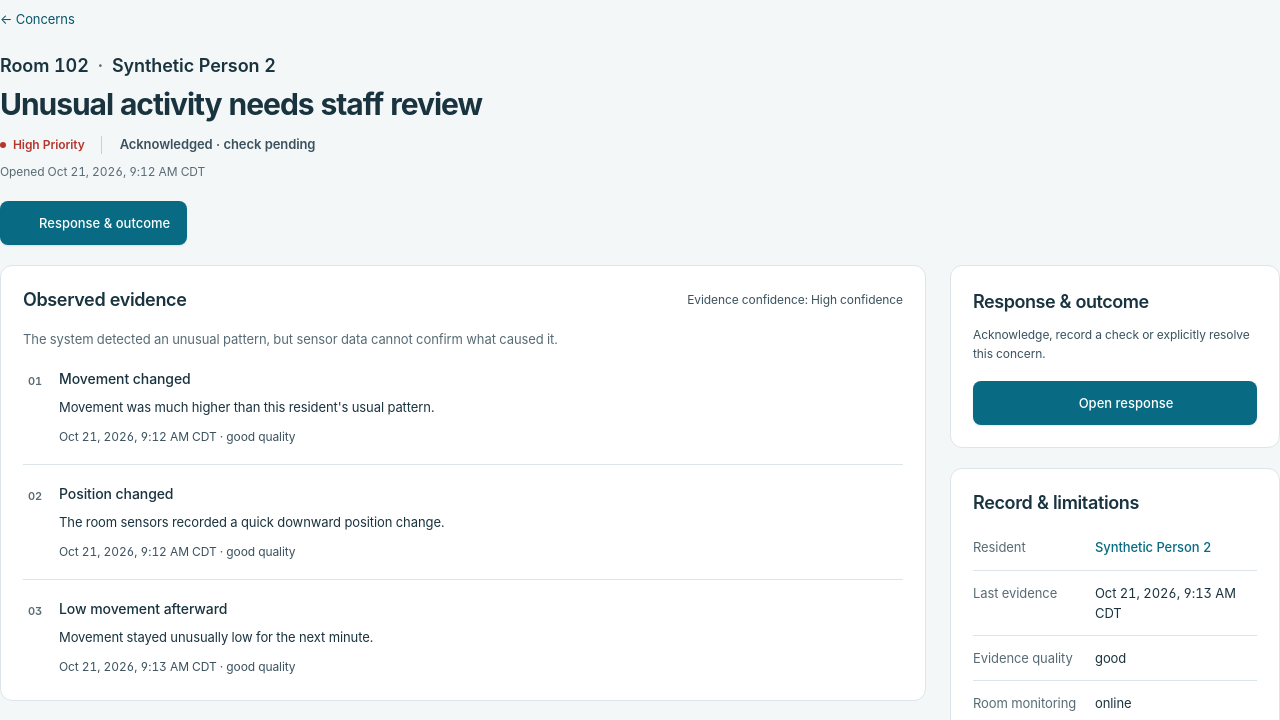
care workspace › protects an actual response draft until staff explicitly discard it
Click the button "Response & outcome".
click(94, 223)  # box [0,201,187,245]
(page scrolled)
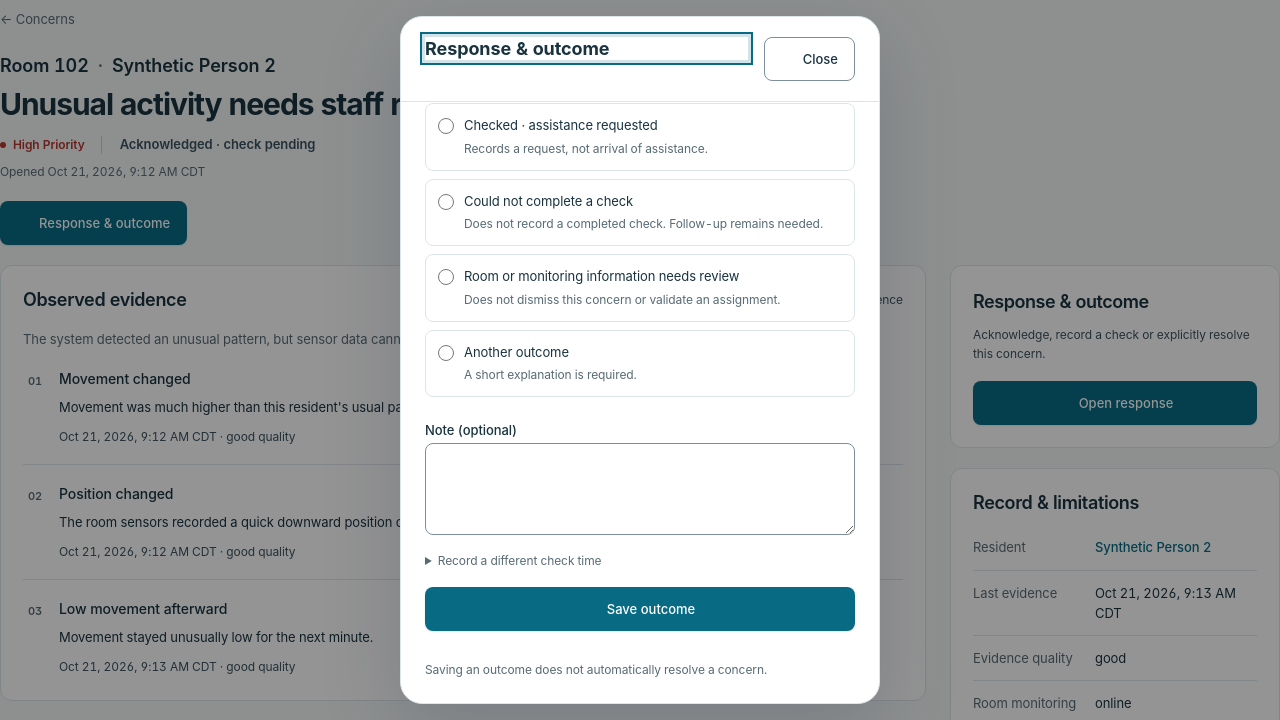
Type "Unfinished synthetic note" into the text box labelled "Note (optional)".
click(640, 489); type("Unfinished synthetic note")  # box [425,443,855,535]
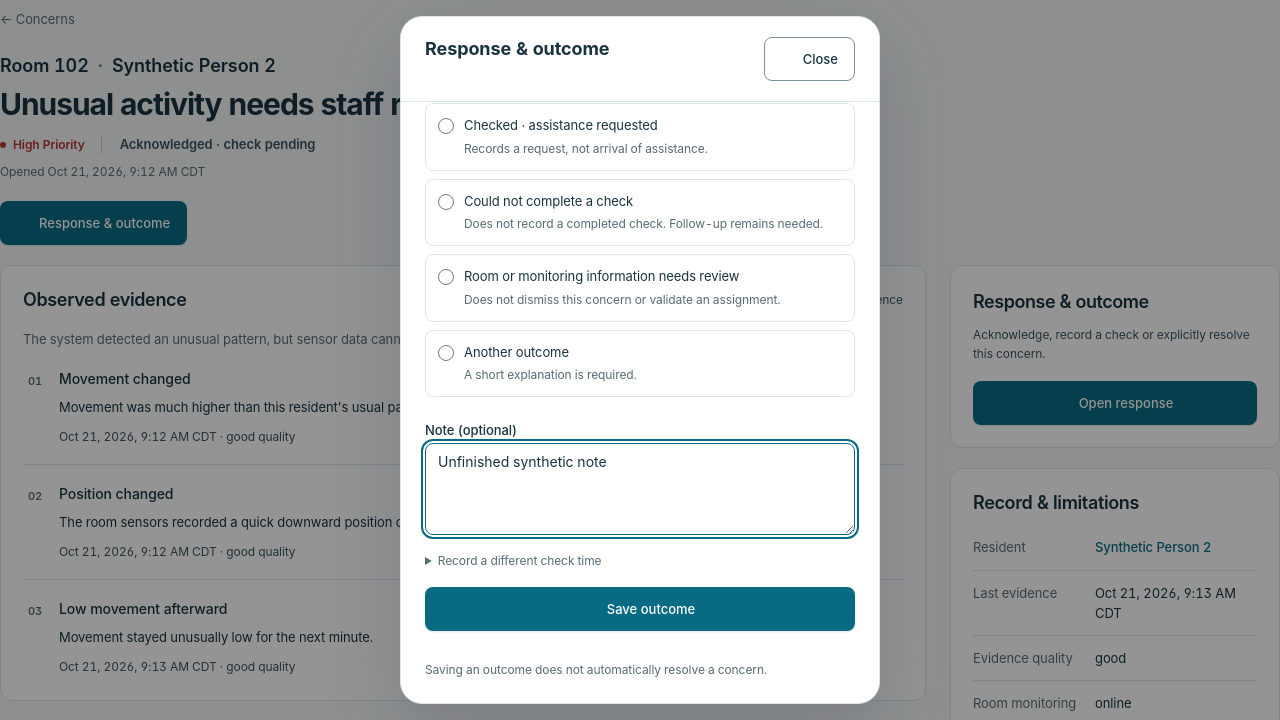
Click the button with aria-label "Close response".
click(809, 59)  # box [764,37,855,81]
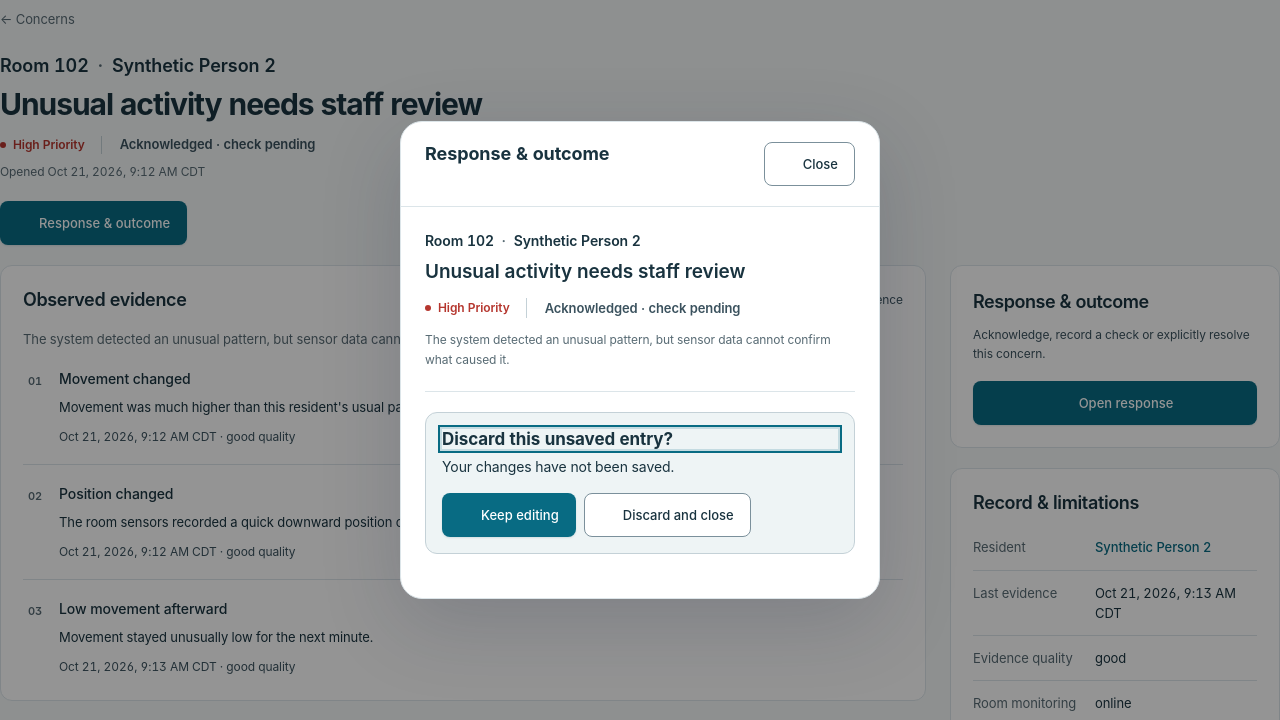
Check: the dialog is shown, box [400,121,880,599]
Check: the button "Save outcome" is gone
Click the button "Keep editing".
click(509, 515)  # box [442,493,576,537]
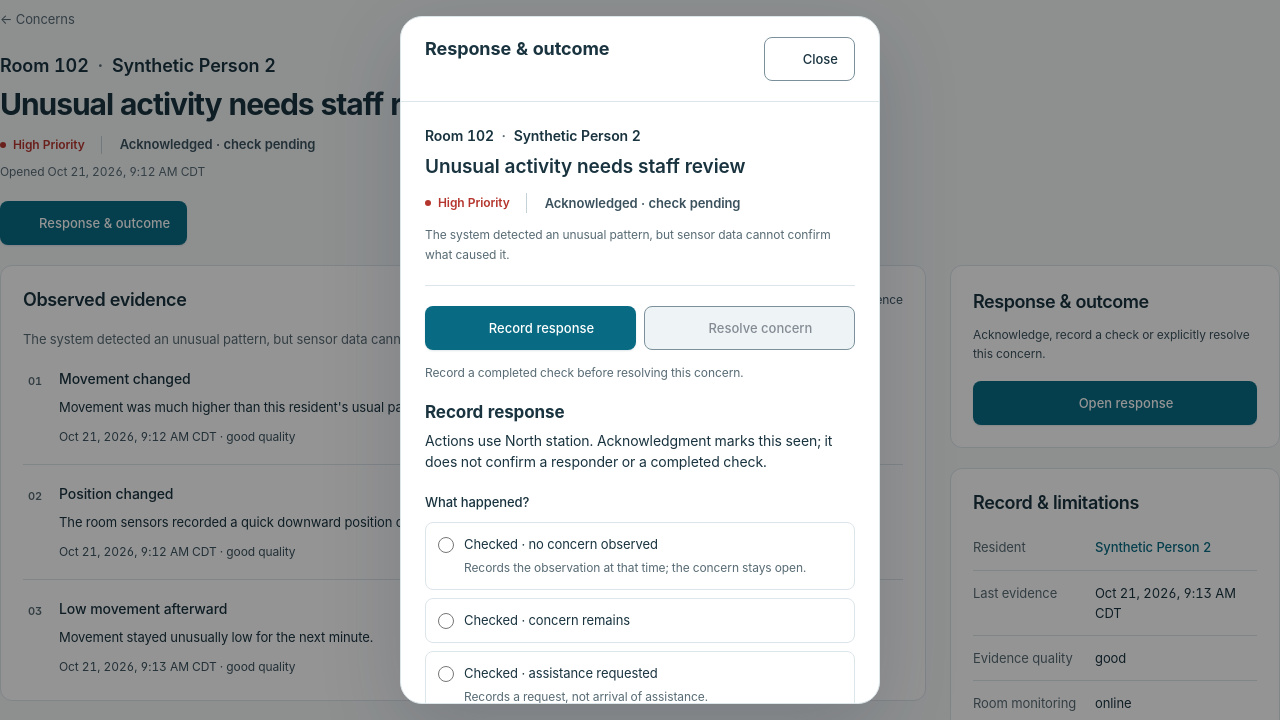
Click the button with aria-label "Close response".
click(809, 59)  # box [764,37,855,81]
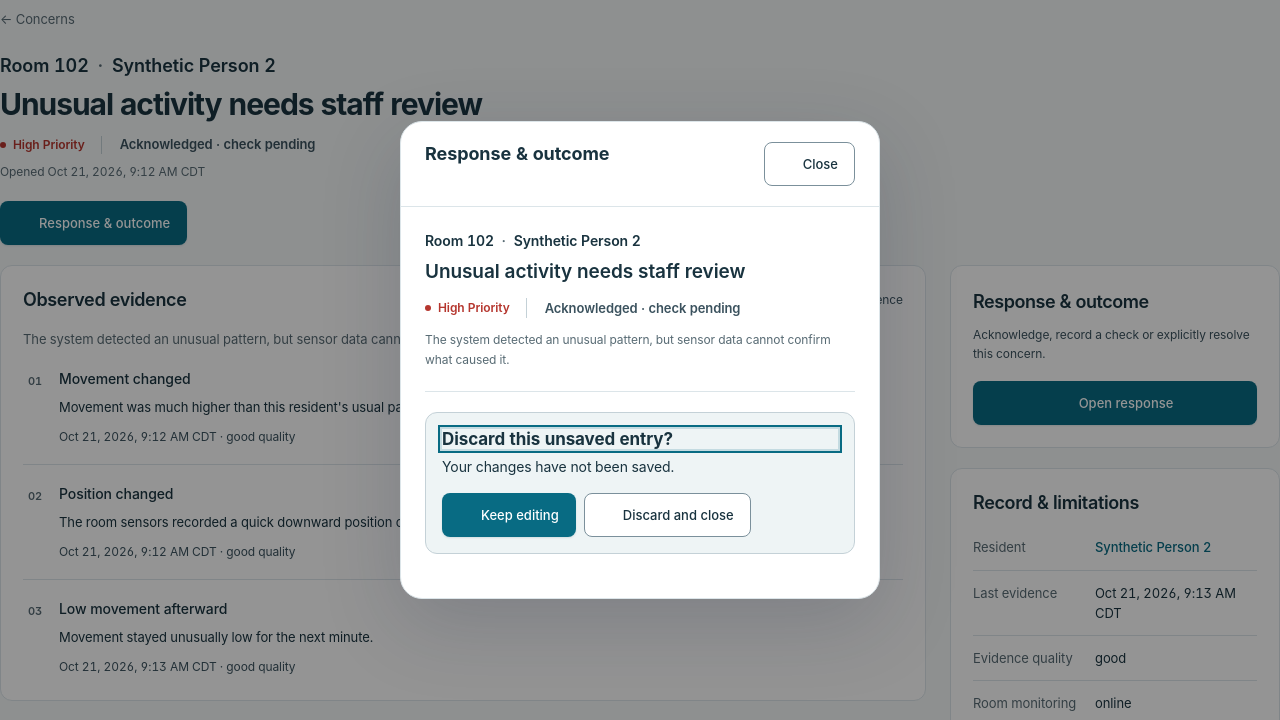
Click the button "Discard and close".
click(667, 515)  # box [584,493,751,537]
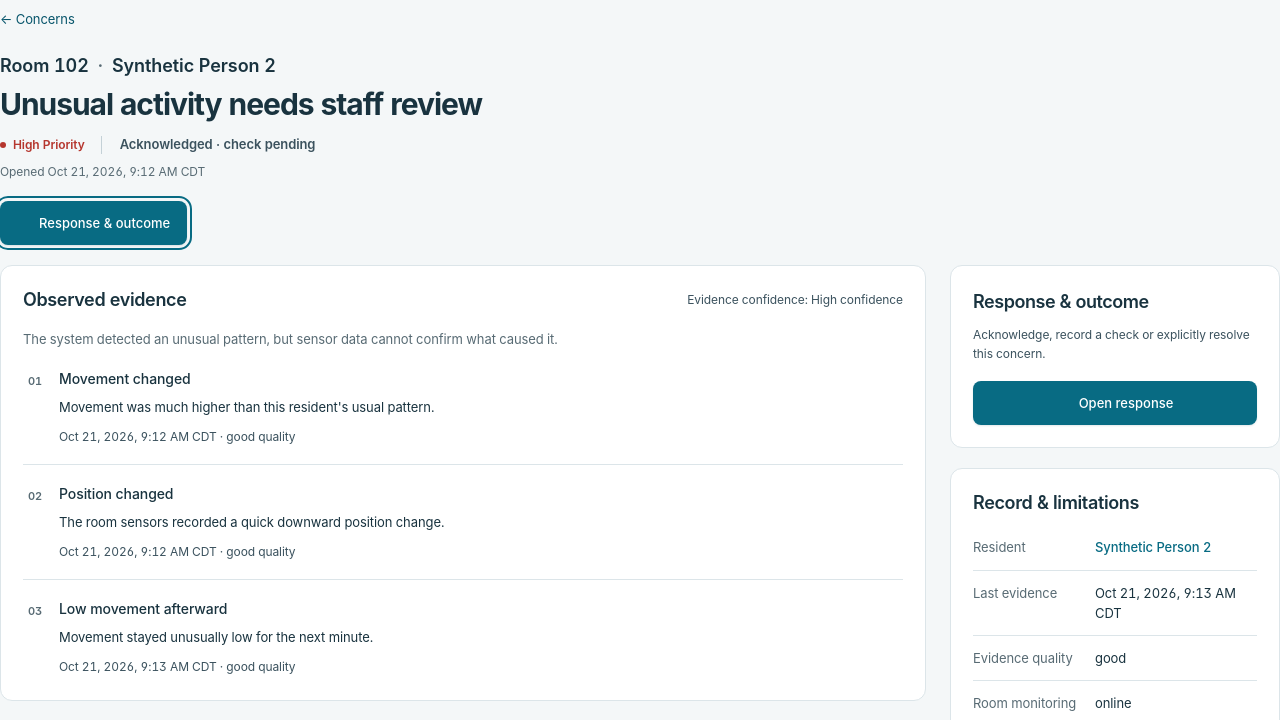
Check: the dialog is gone
